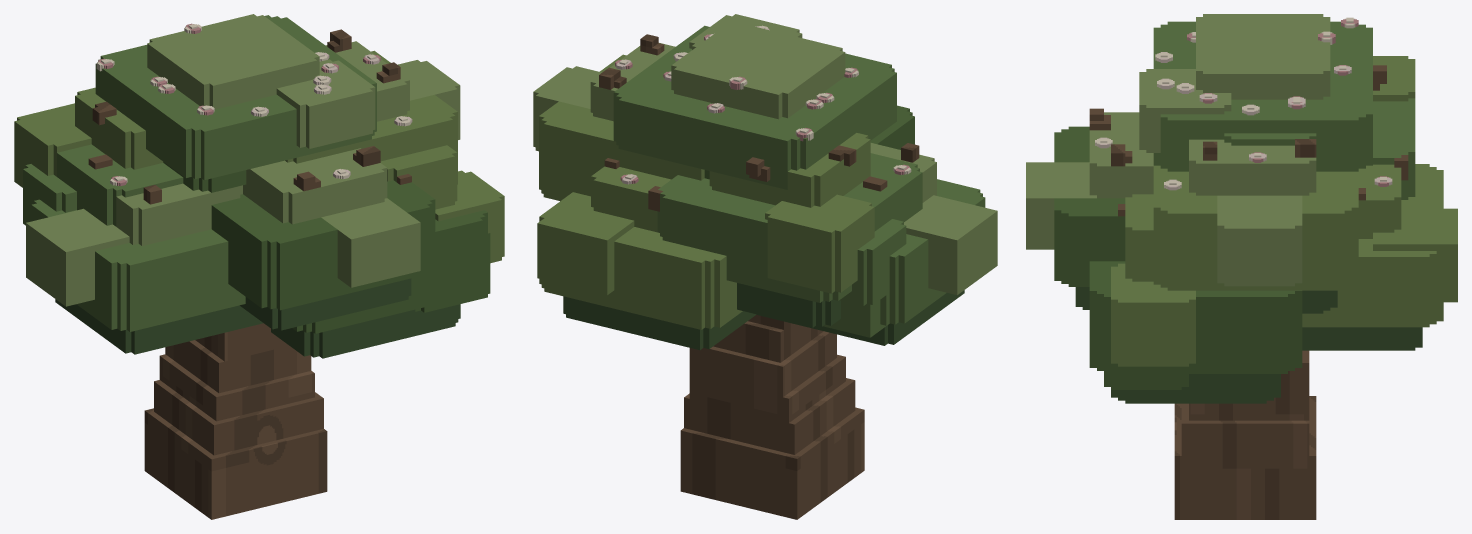
The model's file is apple_ancient_spring_2.glb.
3 views of the same model, side by side, from view 1: azimuth 30°, elevation 25°; view 2: azimuth 150°, elevation 25°; view 3: azimuth 270°, elevation 25° (orthographic). The views are drawn at different scales.
Parts seen in each view (by area): view 1: VoxelVisual; view 2: VoxelVisual; view 3: VoxelVisual.
Part boxes in pixels (x1,y1,x2,y2): VoxelVisual: (14, 14, 504, 519); VoxelVisual: (533, 14, 997, 519); VoxelVisual: (1026, 14, 1457, 519).
Size of what is drawn, in the model's own units: 17.75 by 17.69 by 15.25.
